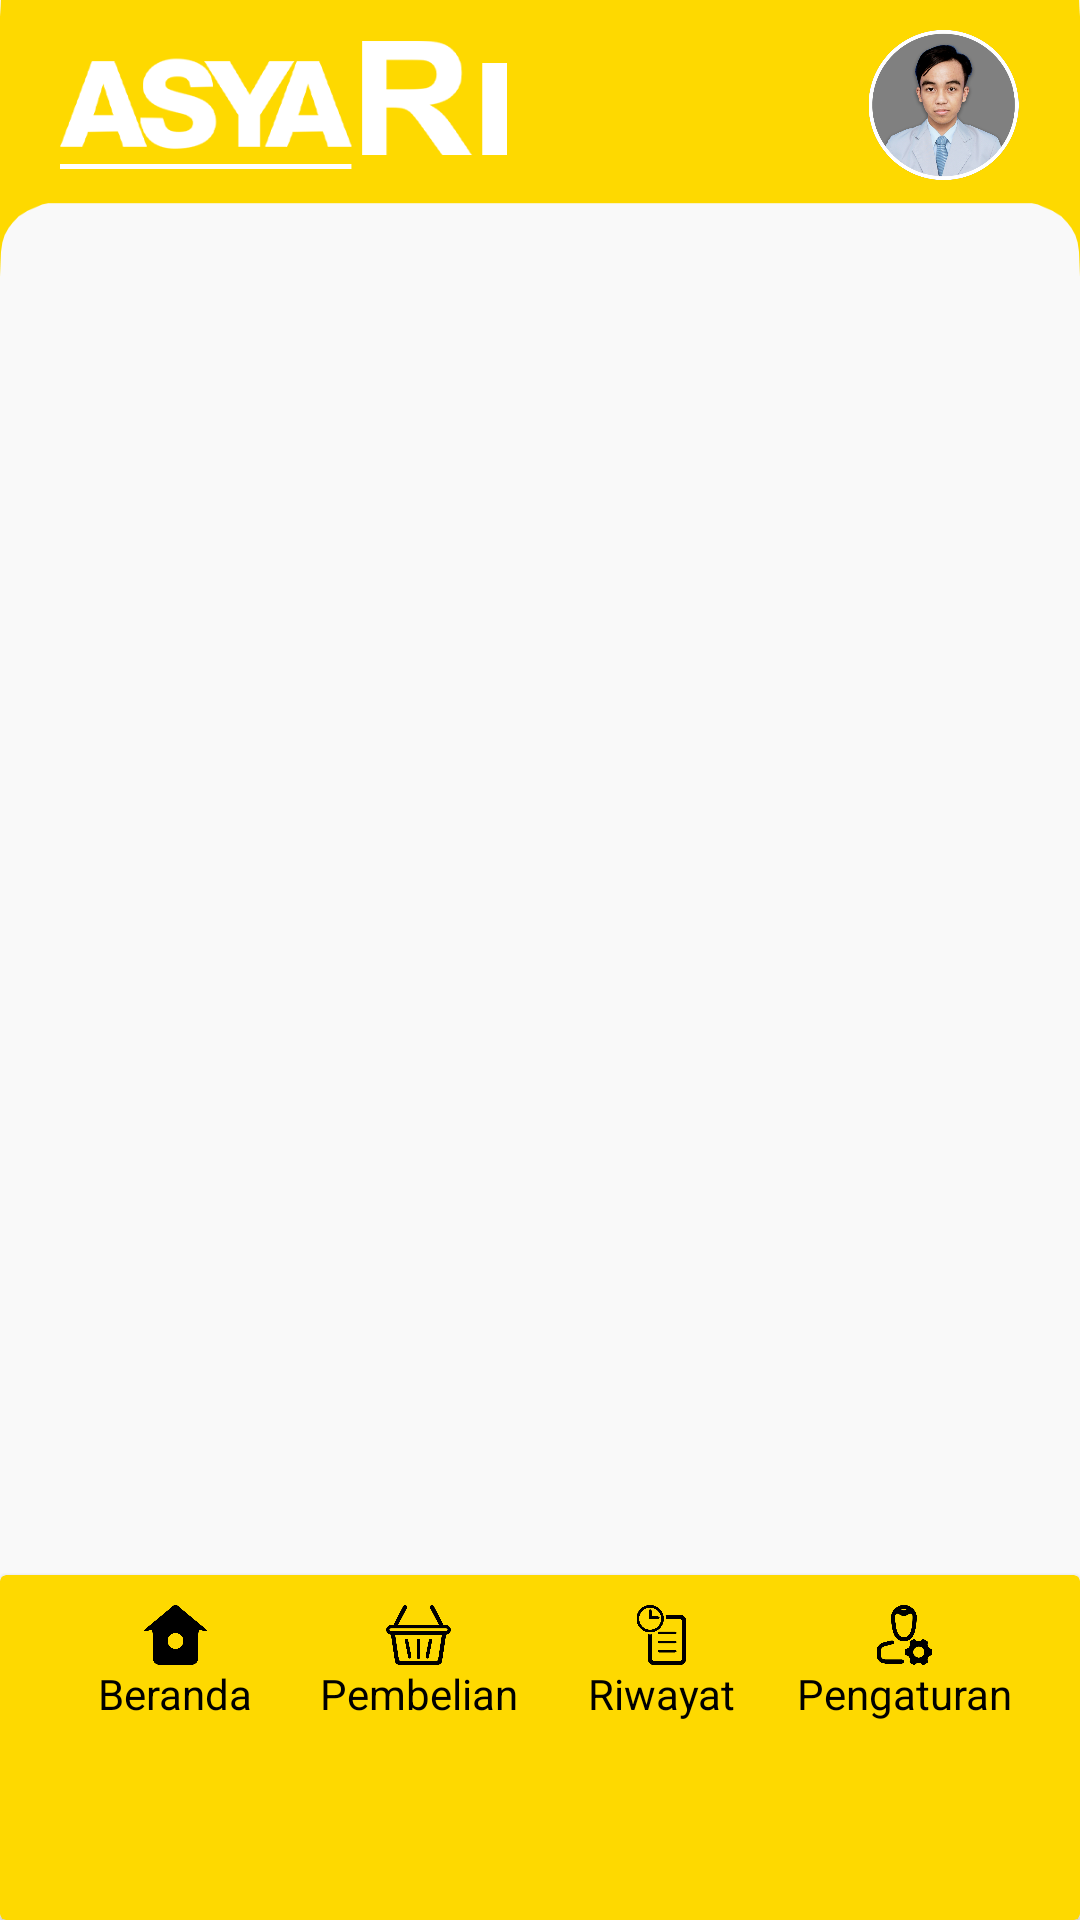

Icon click points for this 1080 x 1920 phone screenshot, format (x,y):
profile: (944,105)
